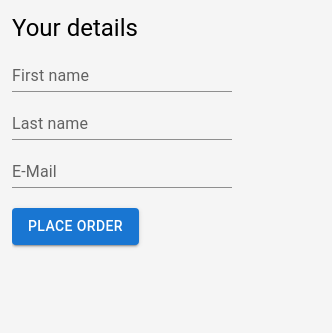
Test case: CheckoutForm › should not submit if fields are empty
The width and height of the screenshot is (332, 333).
Click the button with test id "CHECKOUT_PLACE_ORDER_BUTTON".
click(76, 226)  # box [12,208,139,244]
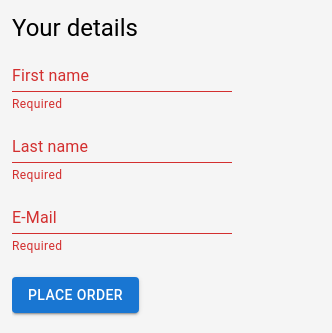
Check: the text "Required" is shown 3 times, box [12,97,62,111]; [12,168,62,182]; [12,239,62,253]
